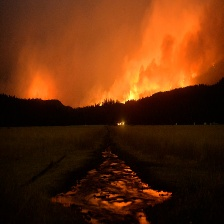smoke: (10, 5, 224, 94)
